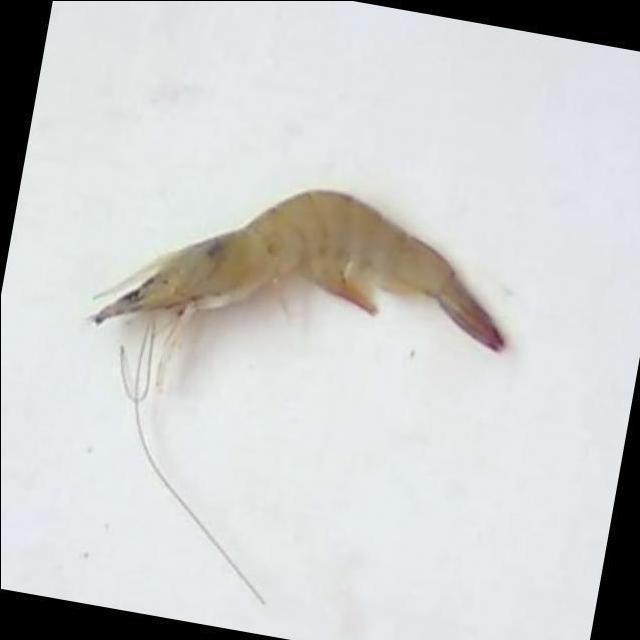shrimp: (90, 190, 505, 351)
